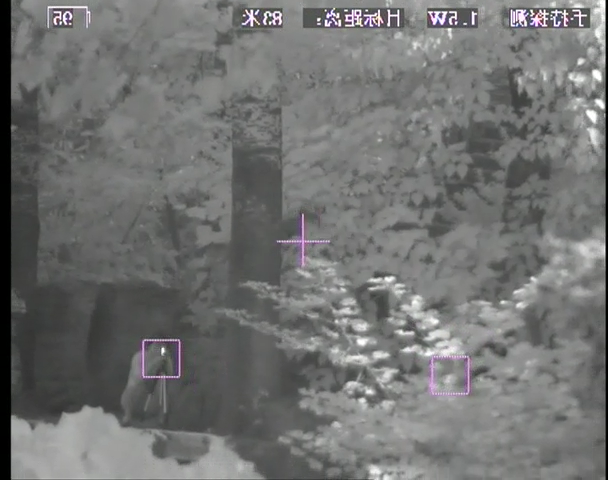my: (157, 346, 170, 357)
